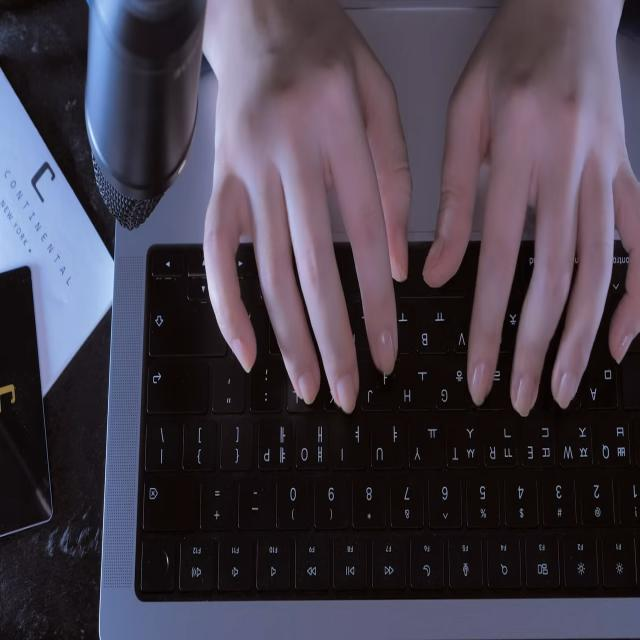keyboard-with-hands: (138, 241, 640, 598)
